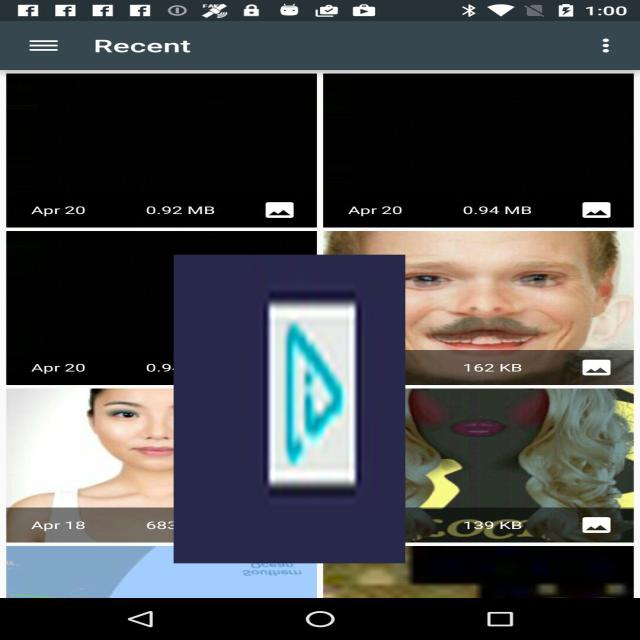sneaking: (174, 255, 405, 563)
